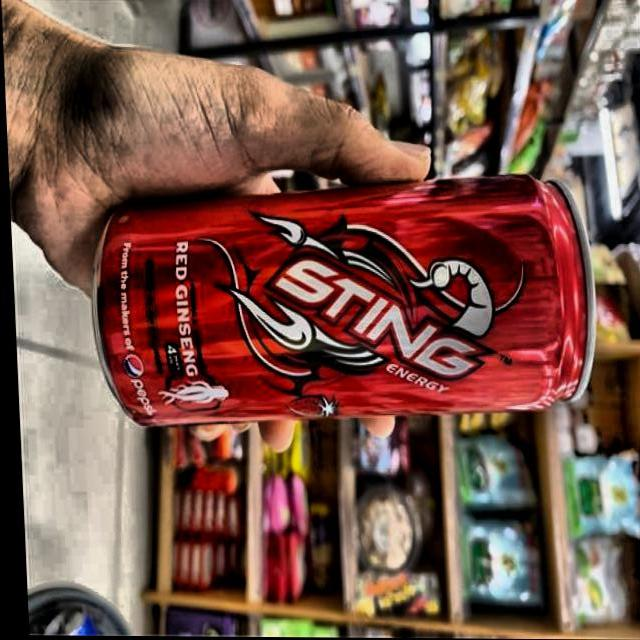litter: (75, 168, 613, 442)
